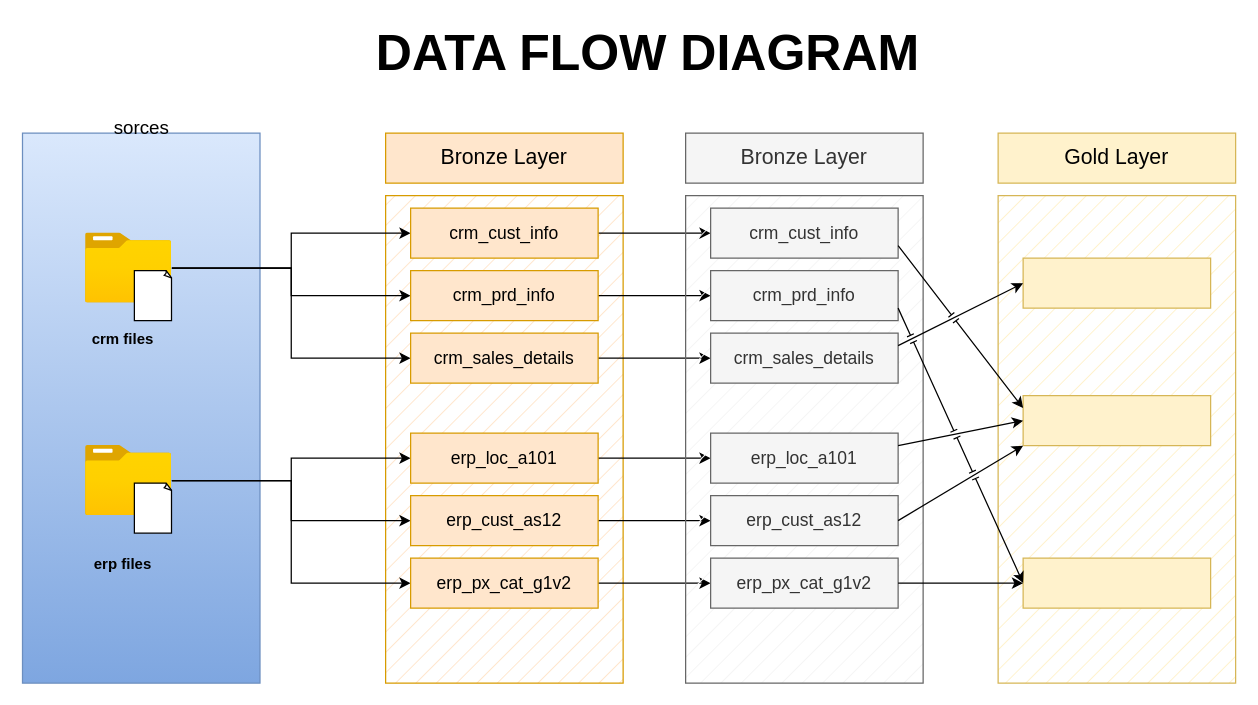
Some shapes in this 1258 by 705 pixel diagram are drawn without their labels. Here are the shapes that lost their labels. From the top down, the centre of each, then its label:
At (1116,282): "fact_sales".
At (1116,420): "dim_customers".
At (1116,582): "dim_products".
